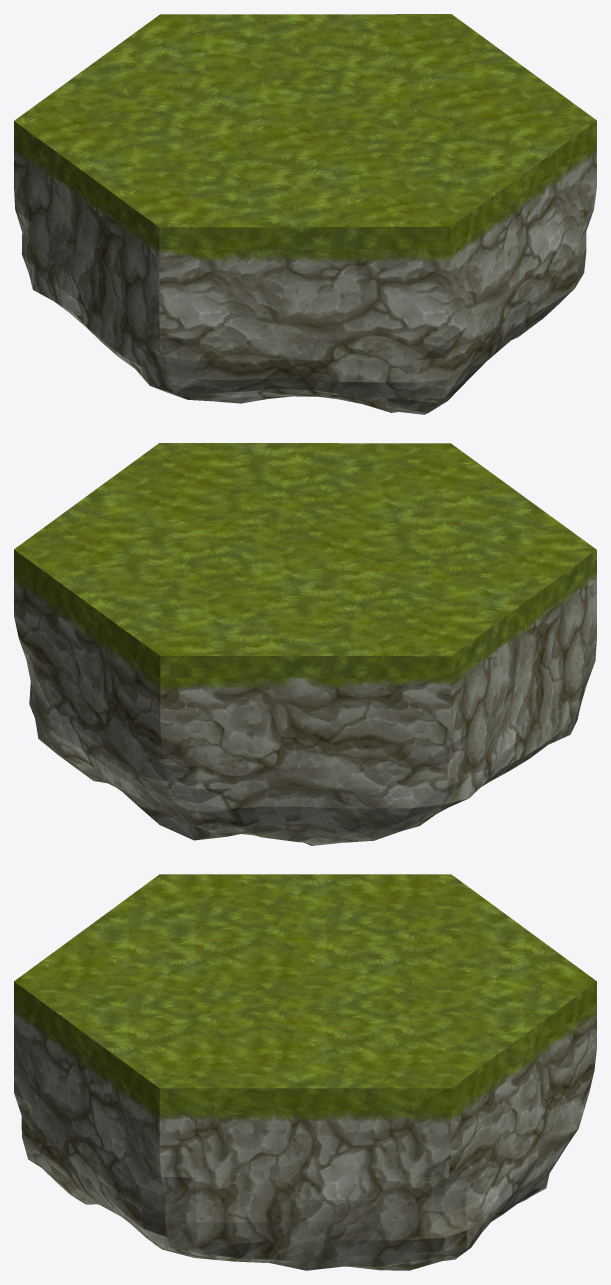
Rendered from plainChunk.glb.
The picture shows the model from 3 angles, top to bottom: view 1: azimuth 30°, elevation 25°; view 2: azimuth 150°, elevation 25°; view 3: azimuth 270°, elevation 25°; orthographic projection.
Visible parts, largest first — view 1: Planicie; view 2: Planicie; view 3: Planicie.
Part boxes in pixels (x1,y1,x2,y2): Planicie: (14, 14, 596, 414); Planicie: (14, 443, 596, 845); Planicie: (14, 874, 596, 1270).
Size of the model in its own units: 1 by 0.5 by 1.15.
Materials: 1 (1 with a texture image).
